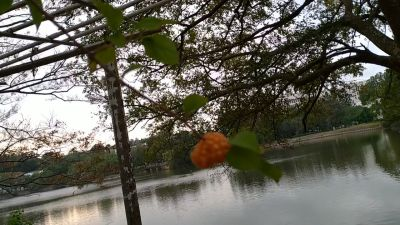eggs: (189, 131, 233, 169)
